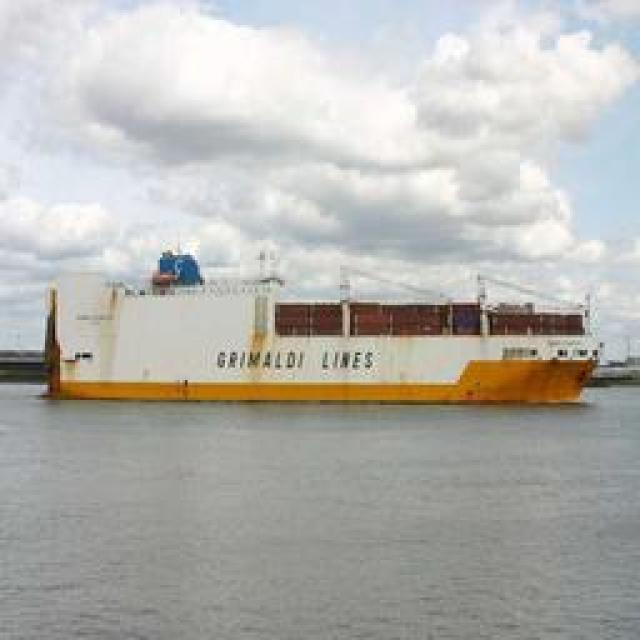CIV_Ship: (31, 252, 614, 408)
